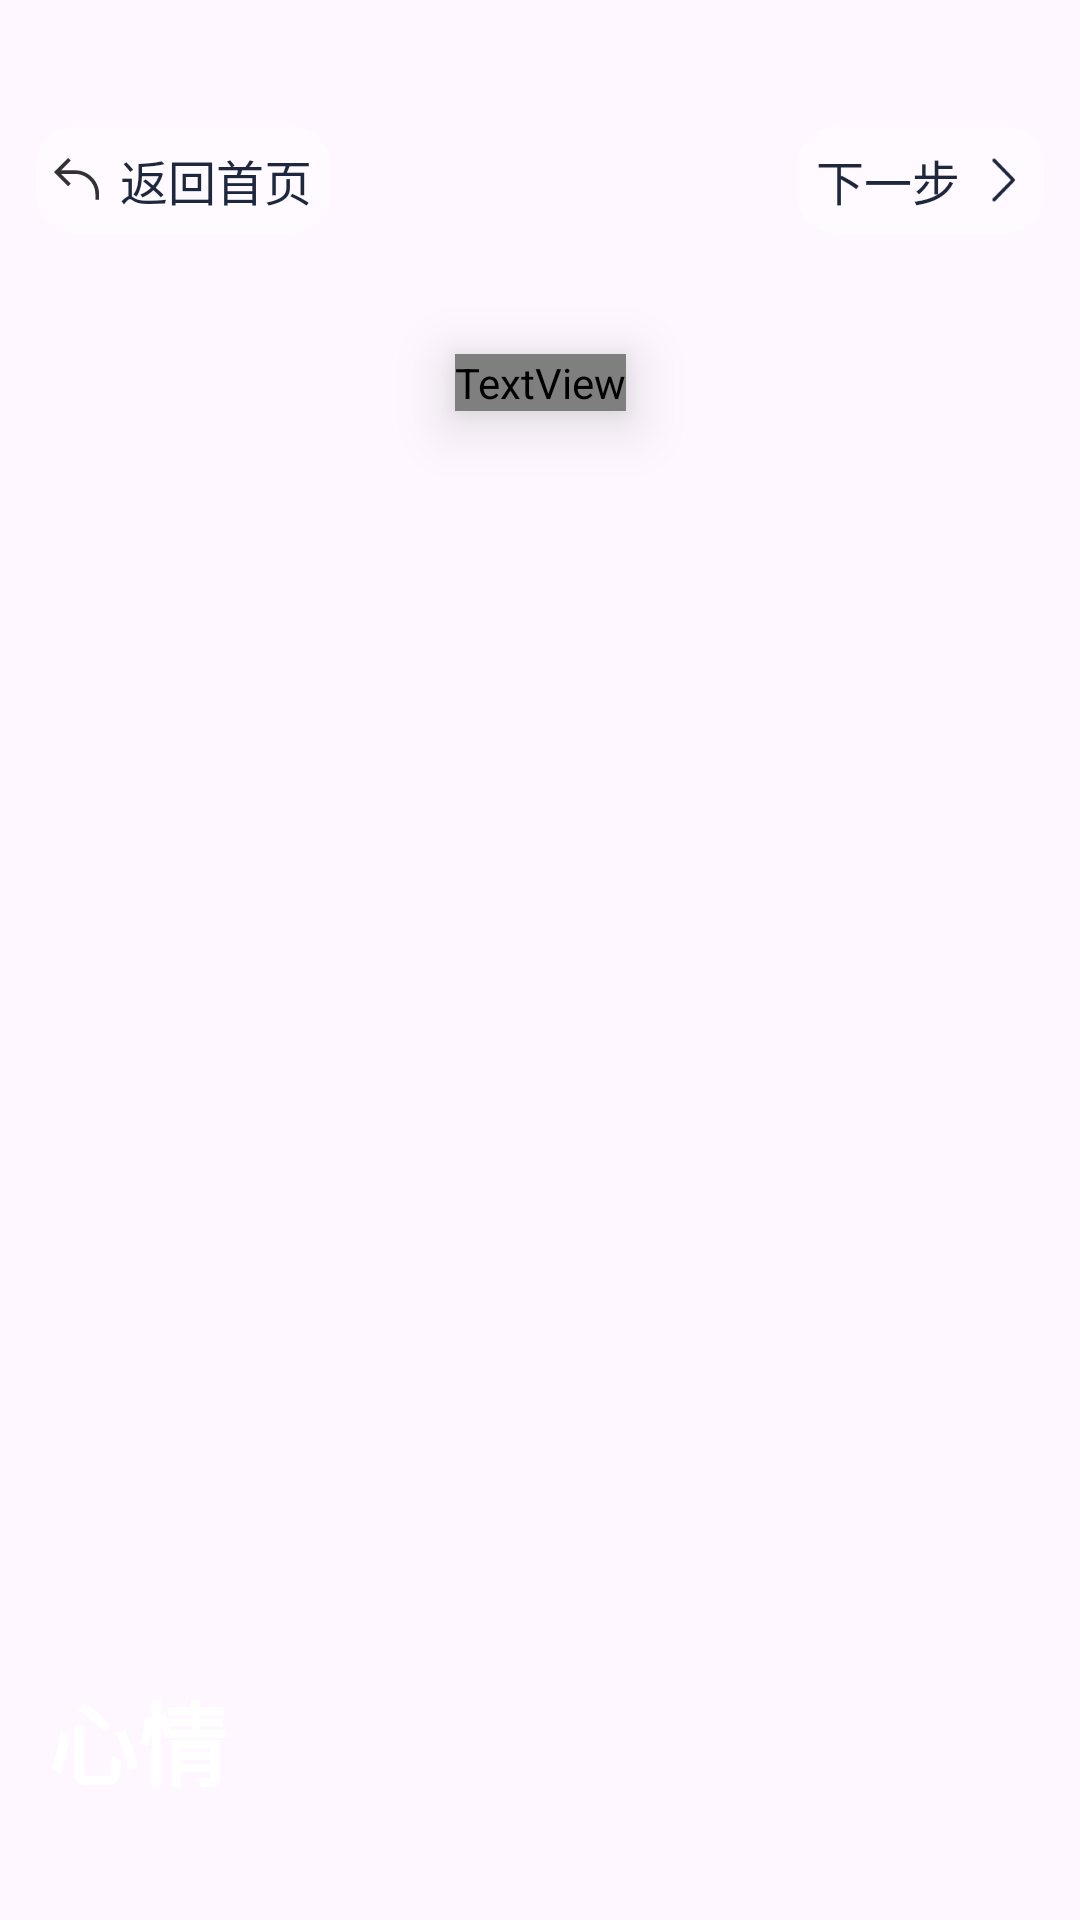

Named icons in this screenshot (1080*1920) and their bounding boxes, region(x1, y1, x2, y2):
right design: region(992, 158, 1015, 202)
